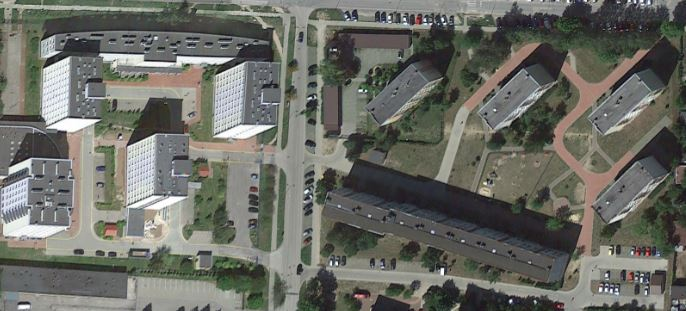block of flats: (316, 168, 572, 289), (26, 25, 288, 72), (118, 124, 205, 225), (470, 57, 561, 149), (589, 146, 675, 237), (1, 154, 86, 245), (361, 54, 453, 138), (584, 57, 669, 147), (35, 54, 116, 140), (206, 59, 287, 142)
garage: (1, 256, 143, 302), (329, 24, 421, 54), (315, 75, 347, 144)
